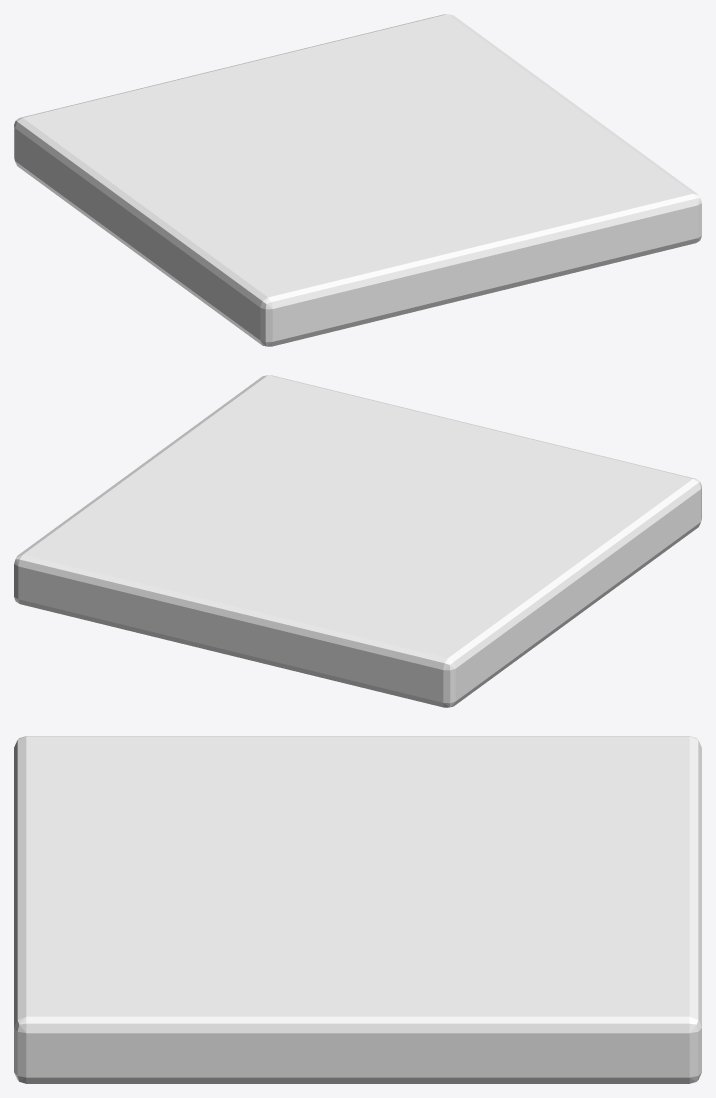
Rendered from TileWhite.obj.
3 renders of one model, top to bottom at view 1: azimuth 30°, elevation 25°; view 2: azimuth 150°, elevation 25°; view 3: azimuth 270°, elevation 25°, orthographic. The views are drawn at different scales.
Visible parts, largest first — view 1: Plane; view 2: Plane; view 3: Plane.
Boxes of the visible parts, box(x1,y1,x2,y2) form: Plane: box(14, 14, 701, 346); Plane: box(14, 375, 701, 707); Plane: box(14, 736, 701, 1083).
Size of the model in its own units: 1 by 0.1071 by 1.
Materials: 1 (1 with a texture image).
